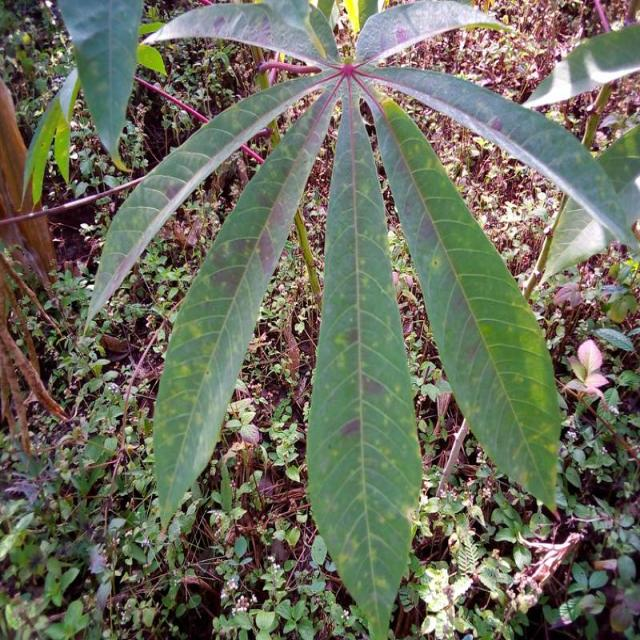cassava leaf: (151, 76, 340, 532), (363, 88, 562, 515), (306, 75, 423, 638)
